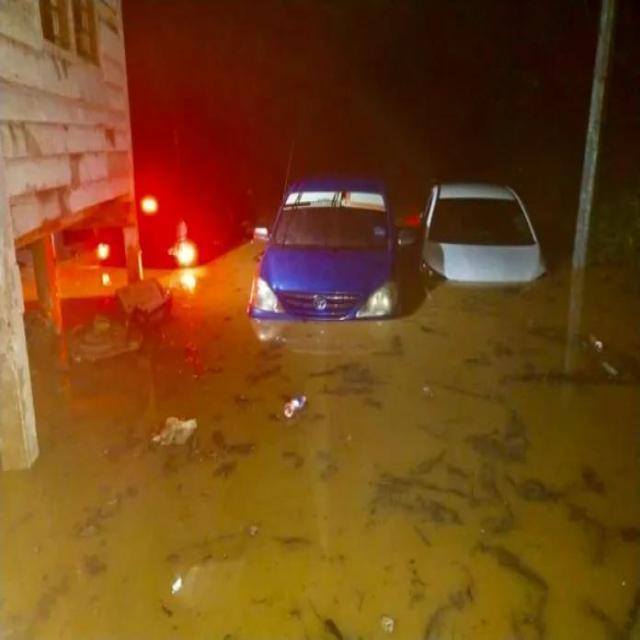water: (0, 239, 639, 638)
